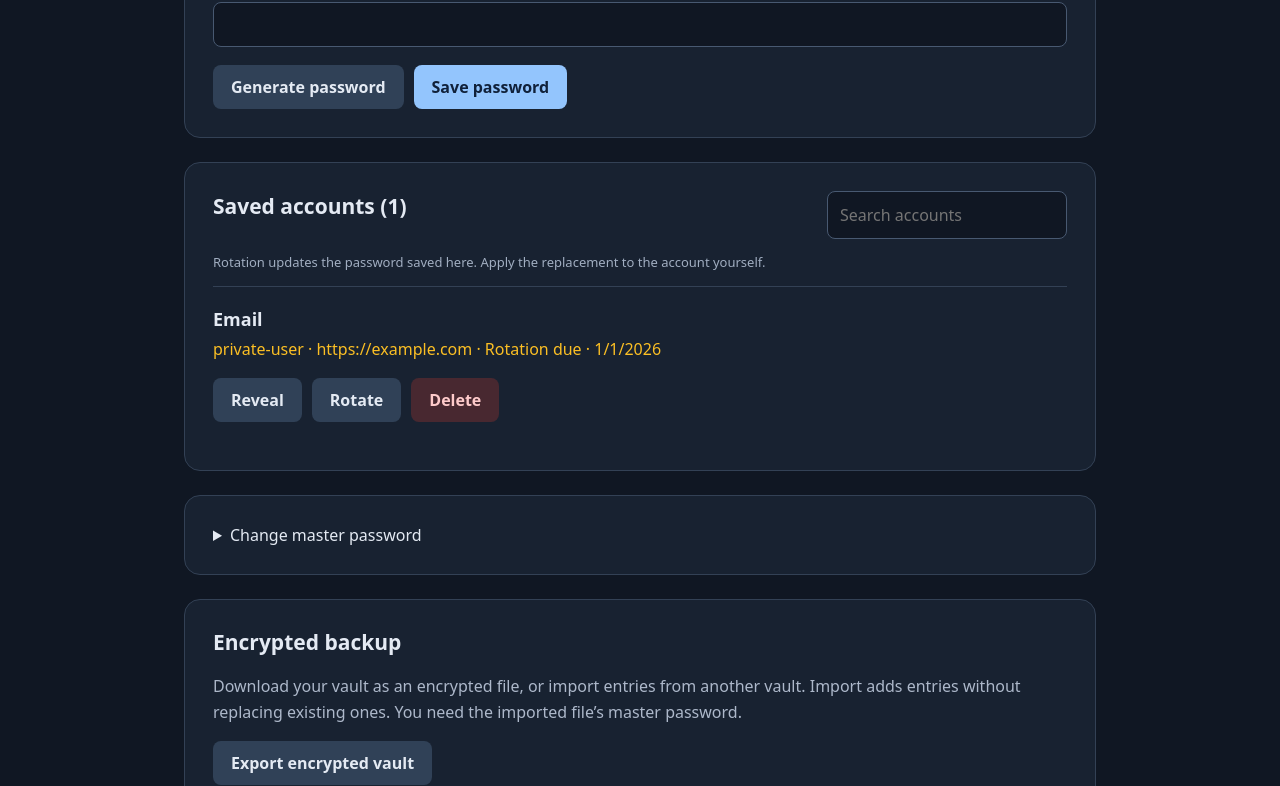
Test case: vault workflows › locks after inactivity and ignores a password response arriving after the lock
(page scrolled)
Click the button "Reveal" at (257, 400), box x1=213 y1=378 x2=302 y2=422
Wait 300000 ms
(page scrolled)
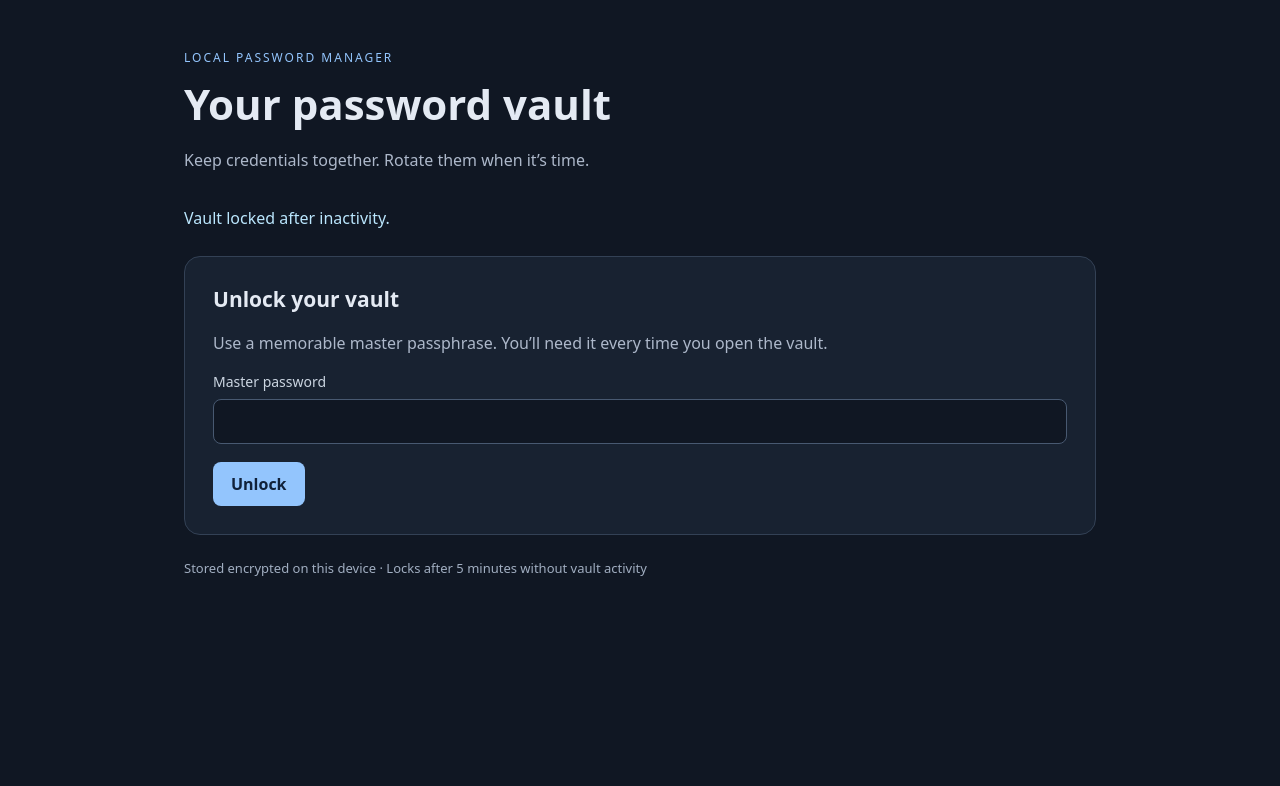
Expected: the heading "Unlock your vault" is shown, x1=213 y1=285 x2=399 y2=313
Expected: the message reads "Vault locked after inactivity.", x1=184 y1=207 x2=390 y2=229
Expected: the button "Unlock" is enabled, x1=213 y1=462 x2=304 y2=506
